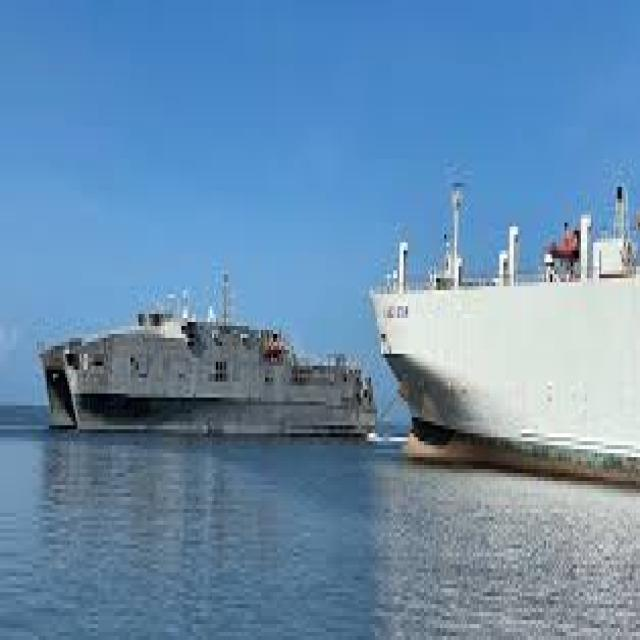navalvessels: (43, 223, 380, 454)
